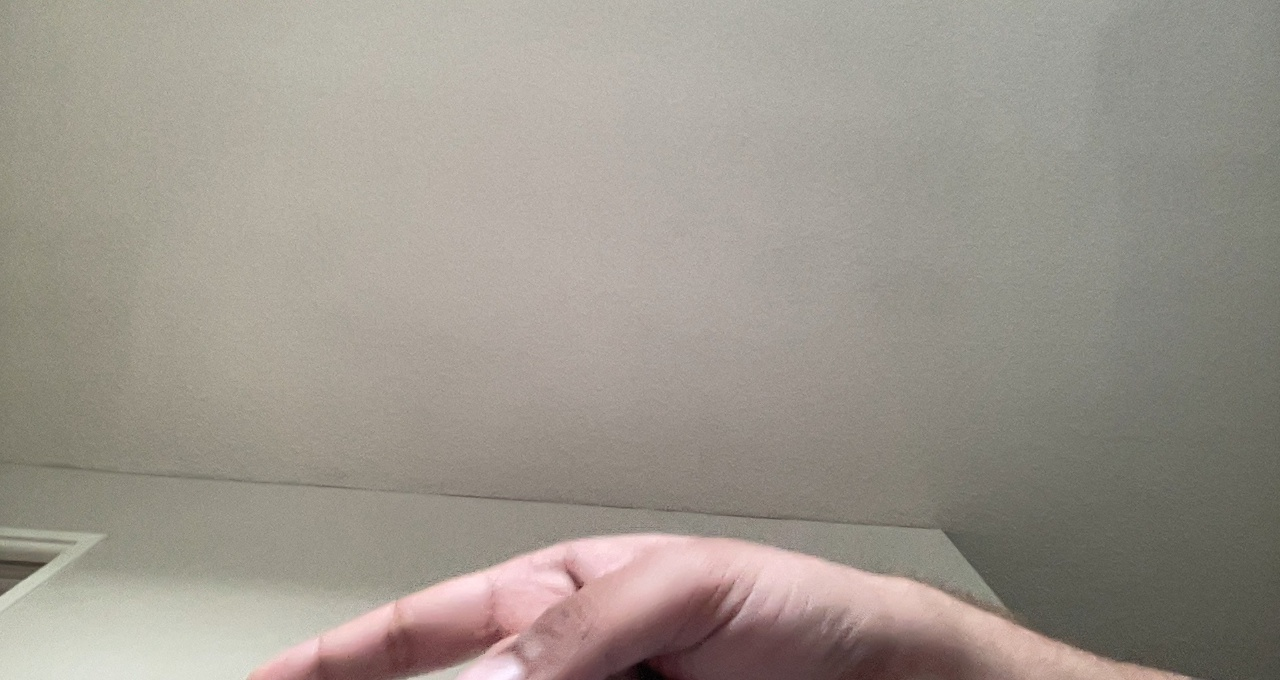fingerright: (180, 511, 909, 680)
